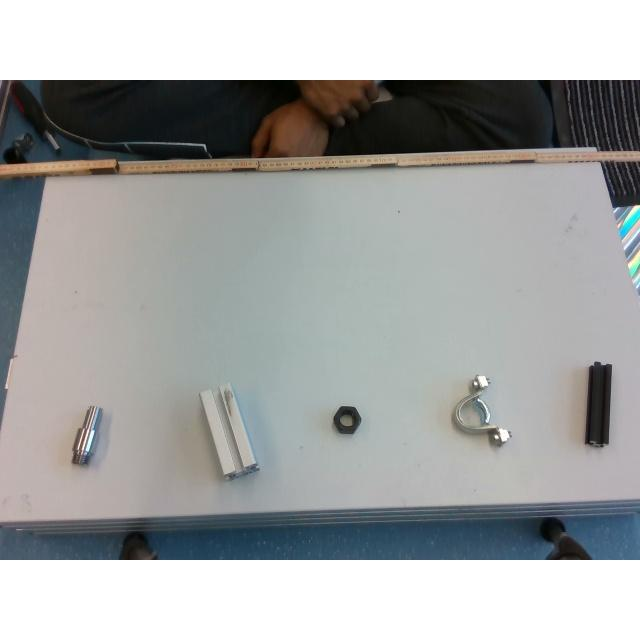Axis2: (72, 404, 102, 464)
F20_20_B: (585, 362, 611, 446)
Housing: (452, 374, 510, 446)
M20: (333, 405, 361, 433)
S40_40_G: (200, 382, 260, 478)
